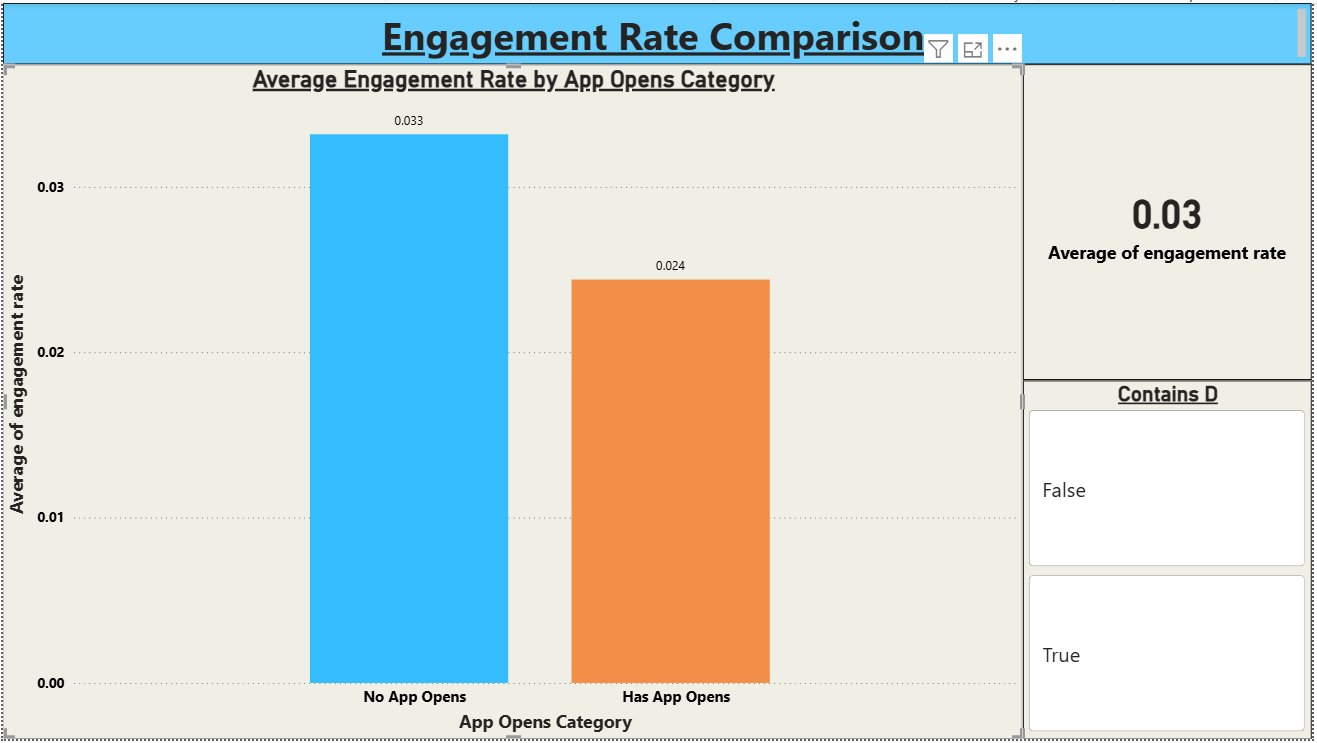

This screenshot's page, from the dashboard's own definition file:
{"tool":"powerbi","page":{"name":"Page 2","canvas":[1280,720],"ordinal":1},"visuals":[{"type":"textbox","box":[0,0,1280.3,60.4],"z":0},{"type":"clusteredColumnChart","title":"Average Engagement Rate by App Opens Category","fields":{"Y":["Avg(Task2_data.engagement rate)"],"Category":["Task2_data.App Opens Category"]},"box":[0,60.4,997.6,660],"z":1000},{"type":"card","fields":{"Values":["Avg(Task2_data.engagement rate)"]},"box":[997.6,60.4,282.7,308.7],"z":2000},{"type":"advancedSlicerVisual","fields":{"Values":["Task2_data.Contains D"]},"box":[998,369,282,351],"z":3000}]}

Visuals, with their boxes in screenshot pixels (x1, y1, x2, y2), scaled from the page's 1280x720 canvas onto the 1317x743 screenshot:
textbox: locate(0, 0, 1316, 62)
"Average Engagement Rate by App Opens Category" clusteredColumnChart: locate(0, 62, 1026, 742)
card - Avg(Task2_data.engagement rate): locate(1026, 62, 1316, 381)
advancedSlicerVisual - Task2_data.Contains D: locate(1027, 381, 1316, 742)
